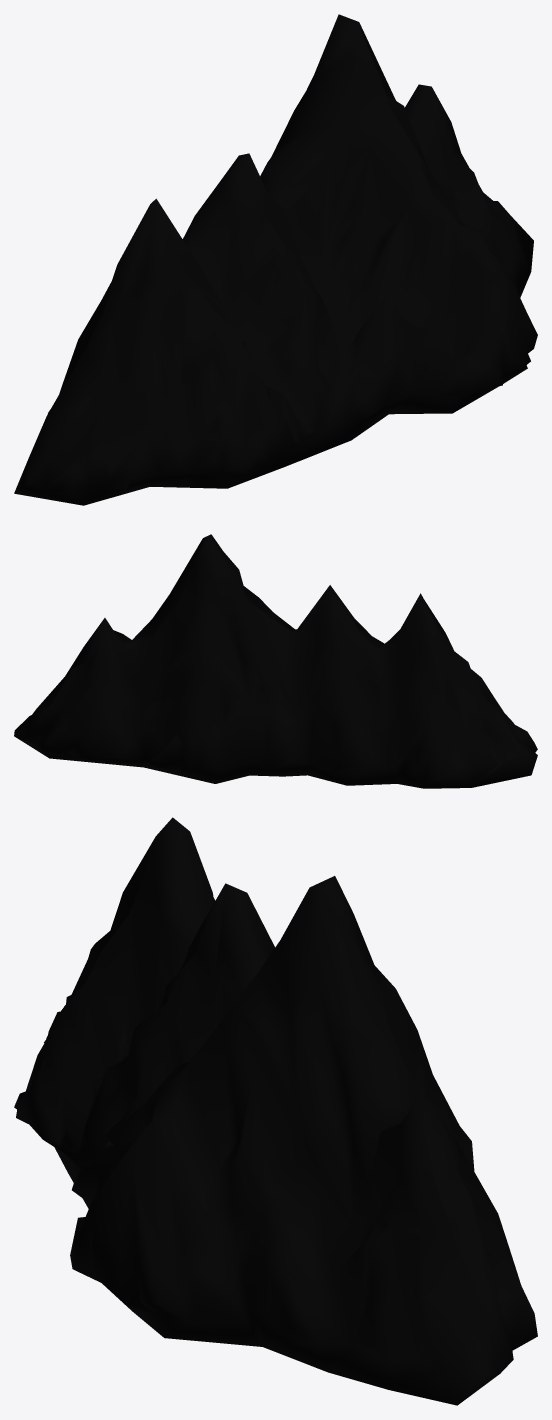
Rendered from range-b-far.glb.
3 renders of one model, top to bottom at view 1: azimuth 30°, elevation 25°; view 2: azimuth 150°, elevation 25°; view 3: azimuth 270°, elevation 25°, orthographic. The views are drawn at different scales.
Parts seen in each view (by area): view 1: range-b-far; view 2: range-b-far; view 3: range-b-far.
Boxes of the visible parts, x1,y1,x2,y2 form: range-b-far: (14,14,537,505); range-b-far: (14,534,537,788); range-b-far: (14,817,537,1405).
Size of the model in its own units: 1.88 by 0.9112 by 1.1.
1 material, 1 textured.
